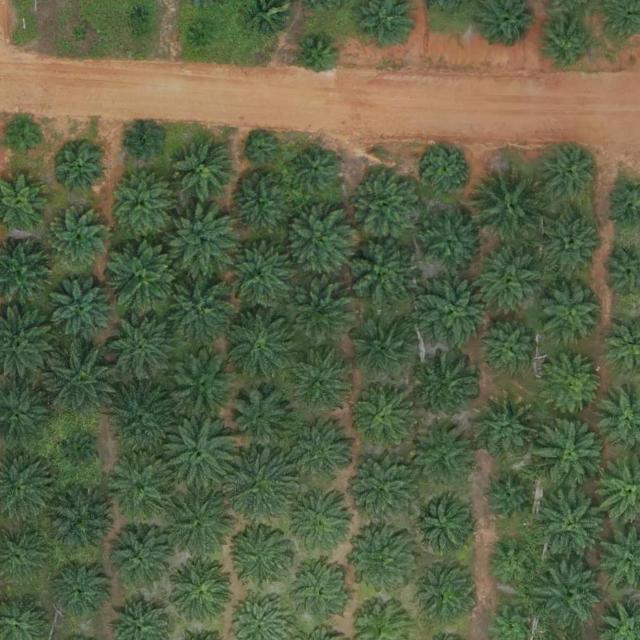Kelapa_Sawit: (41, 342, 119, 420), (105, 237, 183, 315), (102, 380, 180, 458), (156, 267, 234, 345), (163, 412, 241, 490), (220, 238, 298, 316), (222, 306, 300, 384), (219, 447, 297, 525), (347, 164, 425, 242), (340, 234, 418, 312), (343, 451, 421, 529), (415, 274, 493, 352), (471, 165, 549, 243), (469, 242, 547, 320), (533, 414, 611, 492), (533, 485, 611, 563), (160, 483, 238, 561), (108, 452, 178, 523), (47, 484, 117, 555), (47, 275, 117, 345), (104, 310, 174, 380), (165, 205, 235, 275), (166, 350, 236, 420), (225, 385, 295, 455), (283, 207, 353, 277), (284, 277, 354, 347), (287, 419, 357, 489), (534, 558, 604, 628), (345, 528, 415, 598), (280, 486, 350, 556), (45, 208, 107, 271), (110, 171, 172, 234), (172, 139, 234, 202), (228, 173, 290, 236), (352, 319, 414, 382), (353, 382, 415, 445), (420, 354, 482, 417), (412, 419, 474, 482), (477, 396, 539, 459), (410, 493, 472, 556), (411, 563, 473, 626), (289, 561, 351, 624), (227, 526, 289, 589), (419, 209, 481, 271), (537, 142, 599, 204), (540, 214, 602, 276), (540, 281, 602, 343), (541, 354, 603, 416), (168, 562, 230, 624), (105, 527, 167, 589), (48, 562, 110, 624), (54, 142, 109, 197), (292, 354, 347, 409), (540, 16, 594, 71), (482, 323, 536, 378), (423, 145, 469, 192), (488, 539, 534, 585), (292, 147, 338, 193), (484, 475, 530, 521), (297, 37, 336, 76), (61, 434, 100, 473), (124, 123, 163, 162), (5, 119, 43, 158), (246, 134, 277, 165), (191, 22, 214, 45), (73, 27, 88, 42), (131, 7, 146, 22)
